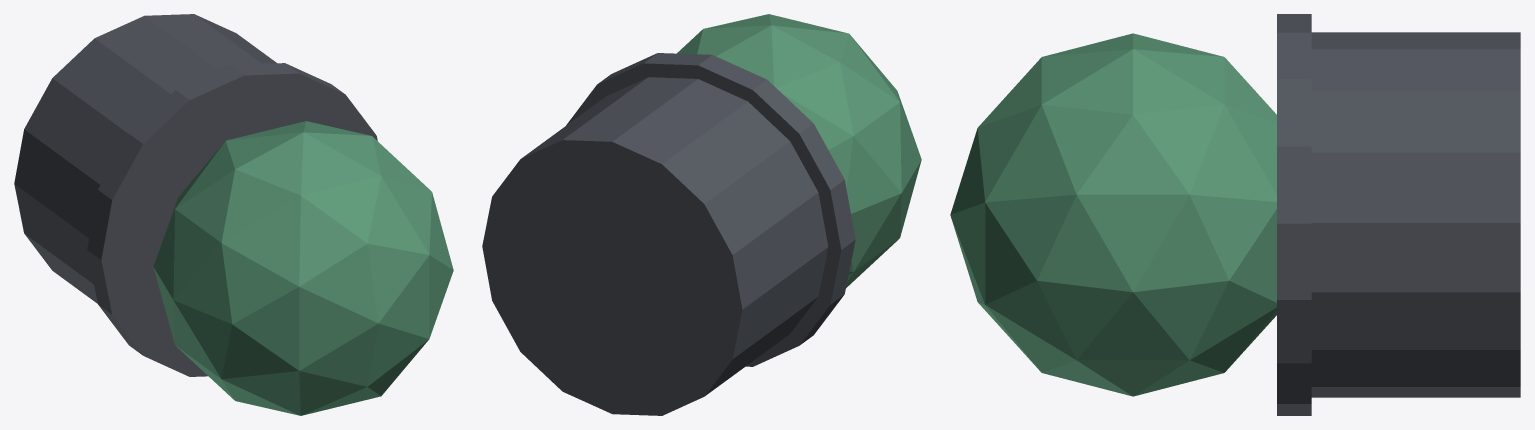
The model's file is planter_v03.glb.
The picture shows the model from 3 angles, left to right: view 1: azimuth 30°, elevation 25°; view 2: azimuth 150°, elevation 25°; view 3: azimuth 270°, elevation 25°; orthographic projection. The views are drawn at different scales.
Parts seen in each view (by area): view 1: sphere_2, cylinder_1, cylinder_0; view 2: cylinder_0, sphere_2, cylinder_1; view 3: sphere_2, cylinder_0, cylinder_1.
Boxes of the visible parts, <box> form: sphere_2: <box>153,121,453,415</box>; cylinder_1: <box>87,63,377,376</box>; cylinder_0: <box>14,14,276,303</box>; cylinder_0: <box>482,77,828,415</box>; sphere_2: <box>677,14,921,287</box>; cylinder_1: <box>566,53,855,366</box>; sphere_2: <box>950,33,1276,396</box>; cylinder_0: <box>1311,32,1520,397</box>; cylinder_1: <box>1277,14,1311,415</box>.
Bounding box in the file's own units: 0.924 × 0.924 × 1.31.
